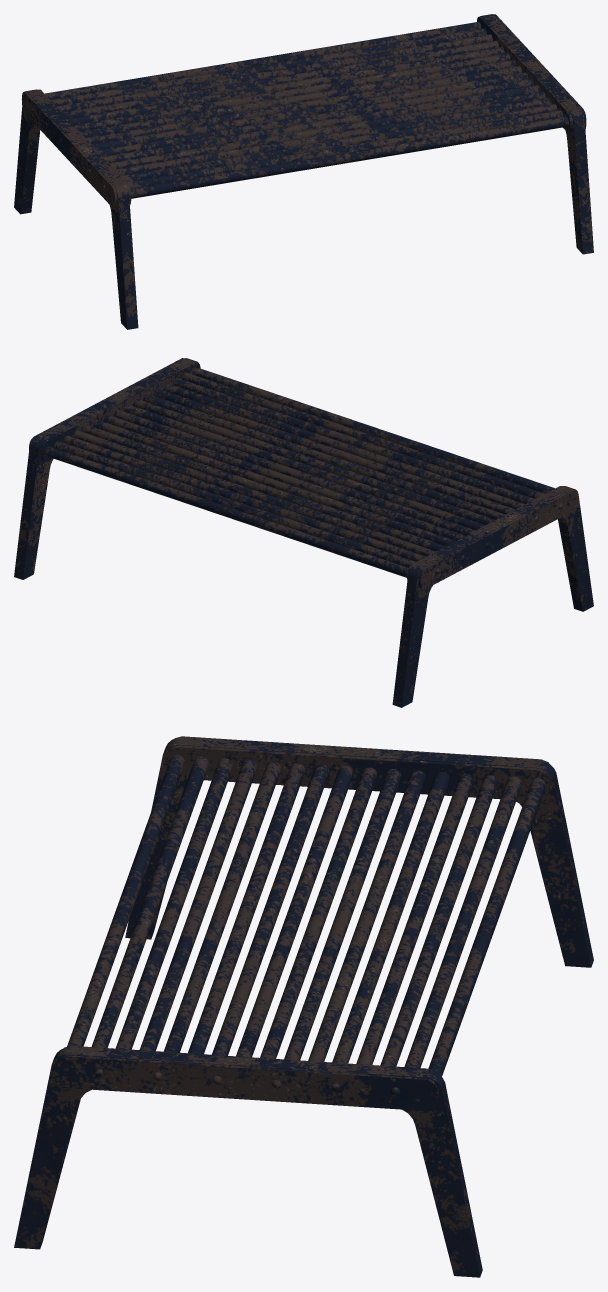
Rendered from bench4.glb.
The picture shows the model from 3 angles, top to bottom: view 1: azimuth 30°, elevation 25°; view 2: azimuth 150°, elevation 25°; view 3: azimuth 270°, elevation 25°; orthographic projection. The views are drawn at different scales.
Parts seen in each view (by area): view 1: Bench_BenchA_shader_0; view 2: Bench_BenchA_shader_0; view 3: Bench_BenchA_shader_0.
Boxes of the visible parts, x1,y1,x2,y2 form: Bench_BenchA_shader_0: (14, 14, 593, 329); Bench_BenchA_shader_0: (14, 358, 593, 707); Bench_BenchA_shader_0: (14, 736, 593, 1277).
Size of the model in its own units: 2.03 by 0.5347 by 1.43.
Materials: 1 (1 with a texture image).
